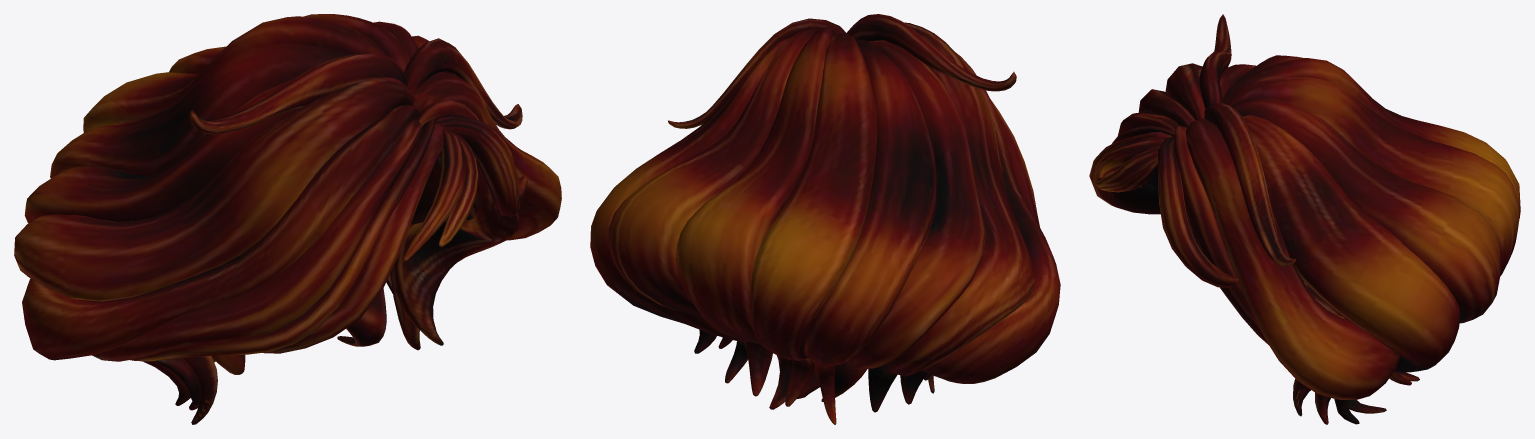
The model's file is Hair_bobcut.fbx.
3 views of the same model, side by side, from view 1: azimuth 30°, elevation 25°; view 2: azimuth 150°, elevation 25°; view 3: azimuth 270°, elevation 25° (orthographic). The views are drawn at different scales.
Visible parts, largest first — view 1: Hair1; view 2: Hair1; view 3: Hair1.
Boxes of the visible parts, box(x1,y1,x2,y2) form: Hair1: box(14, 14, 561, 424); Hair1: box(590, 14, 1060, 424); Hair1: box(1089, 14, 1520, 424).
Bounding box in the file's own units: 53.64 × 38.41 × 47.13.
